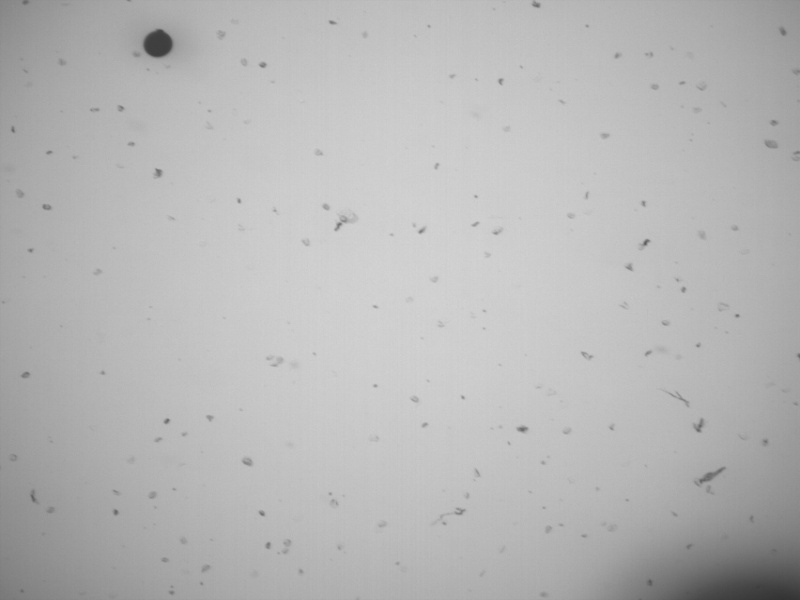bead: (142, 30, 174, 58)
